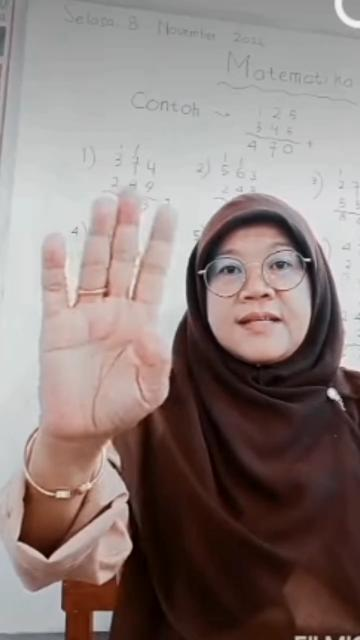B: (37, 190, 174, 432)
